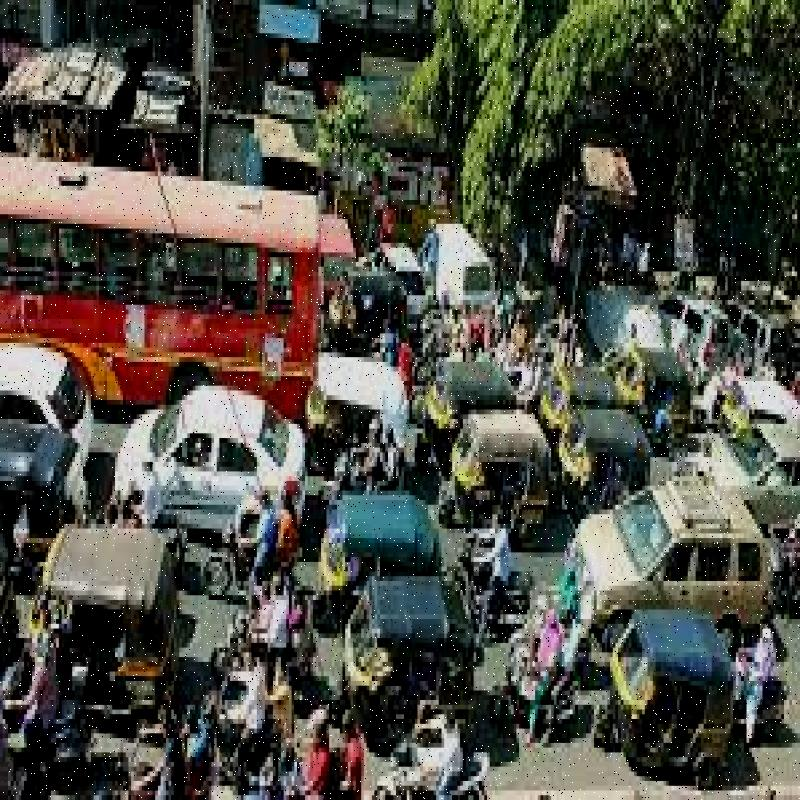auto: (20, 516, 188, 668), (596, 620, 741, 765), (338, 580, 478, 713), (290, 346, 407, 478), (546, 394, 666, 505), (437, 406, 552, 513), (320, 496, 443, 588), (540, 353, 615, 439)
car: (129, 408, 304, 553)
